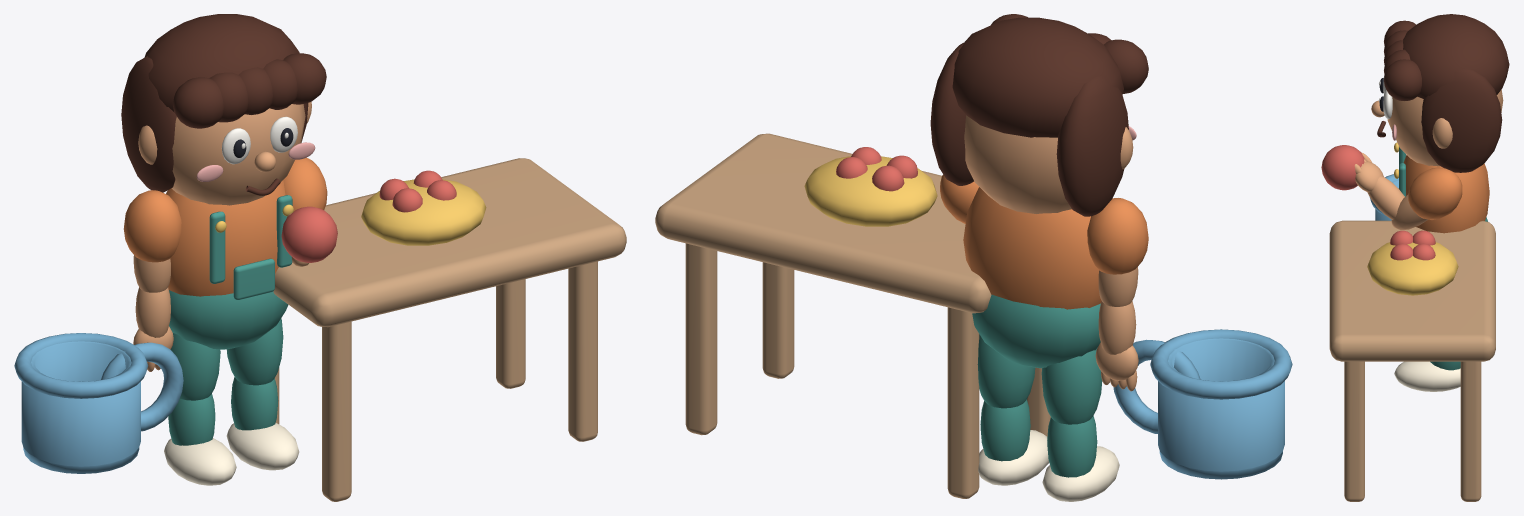
The model's file is ava-need-hungry.glb.
The picture shows the model from 3 angles, left to right: view 1: azimuth 30°, elevation 25°; view 2: azimuth 150°, elevation 25°; view 3: azimuth 270°, elevation 25°; orthographic projection. The views are drawn at different scales.
Parts seen in each view (by area): view 1: table top, hollow cup wall, hair cap, clay head, soft shirt, table leg, table leg.002, overalls, food bowl, bob hair, cup rim, shirt sleeve (+22 smaller); view 2: table top, hair cap, hollow cup wall, soft shirt, bob hair, clay head, overalls, table leg.003, table leg.001, food bowl, cup rim, shirt sleeve (+16 smaller); view 3: table top, bob hair.001, hair cap, food bowl, table leg.003, table leg.002, soft shirt, shirt sleeve.001, clay head, little shoe.001, little apple, fringe.004 (+13 smaller).
Boxes of the visible parts, left/top/right/bottom form: table top: left=273, top=158, right=626, bottom=327; hollow cup wall: left=21, top=341, right=140, bottom=466; hair cap: left=144, top=14, right=299, bottom=111; clay head: left=171, top=104, right=305, bottom=205; soft shirt: left=166, top=180, right=285, bottom=296; table leg: left=322, top=321, right=351, bottom=501; table leg.002: left=568, top=261, right=597, bottom=441; overalls: left=169, top=290, right=288, bottom=349; food bowl: left=361, top=179, right=486, bottom=245; bob hair: left=121, top=56, right=176, bottom=192; cup rim: left=14, top=333, right=148, bottom=398; shirt sleeve: left=123, top=190, right=181, bottom=262; table top: left=655, top=133, right=991, bottom=313; hair cap: left=952, top=17, right=1123, bottom=137; hollow cup wall: left=1158, top=338, right=1284, bottom=471; soft shirt: left=963, top=187, right=1101, bottom=309; bob hair: left=1056, top=76, right=1128, bottom=216; clay head: left=964, top=115, right=1071, bottom=213; overalls: left=972, top=294, right=1100, bottom=368; table leg.003: left=685, top=243, right=717, bottom=435; table leg.001: left=947, top=307, right=979, bottom=498; food bowl: left=804, top=156, right=937, bottom=226; cup rim: left=1150, top=329, right=1292, bottom=399; shirt sleeve: left=1087, top=198, right=1148, bottom=274; table top: left=1329, top=220, right=1495, bottom=361; bob hair.001: left=1421, top=69, right=1502, bottom=172; hair cap: left=1403, top=14, right=1509, bottom=98; food bowl: left=1367, top=242, right=1458, bottom=295; table leg.003: left=1460, top=361, right=1481, bottom=501; table leg.002: left=1344, top=361, right=1364, bottom=501; soft shirt: left=1403, top=155, right=1489, bottom=233; shirt sleeve.001: left=1408, top=167, right=1462, bottom=219; clay head: left=1387, top=89, right=1503, bottom=166; little shoe.001: left=1394, top=361, right=1460, bottom=391; little apple: left=1321, top=145, right=1364, bottom=190; fringe.004: left=1384, top=59, right=1421, bottom=100.
Bounding box in the file's own units: 2.46 × 1.9 × 0.905.
